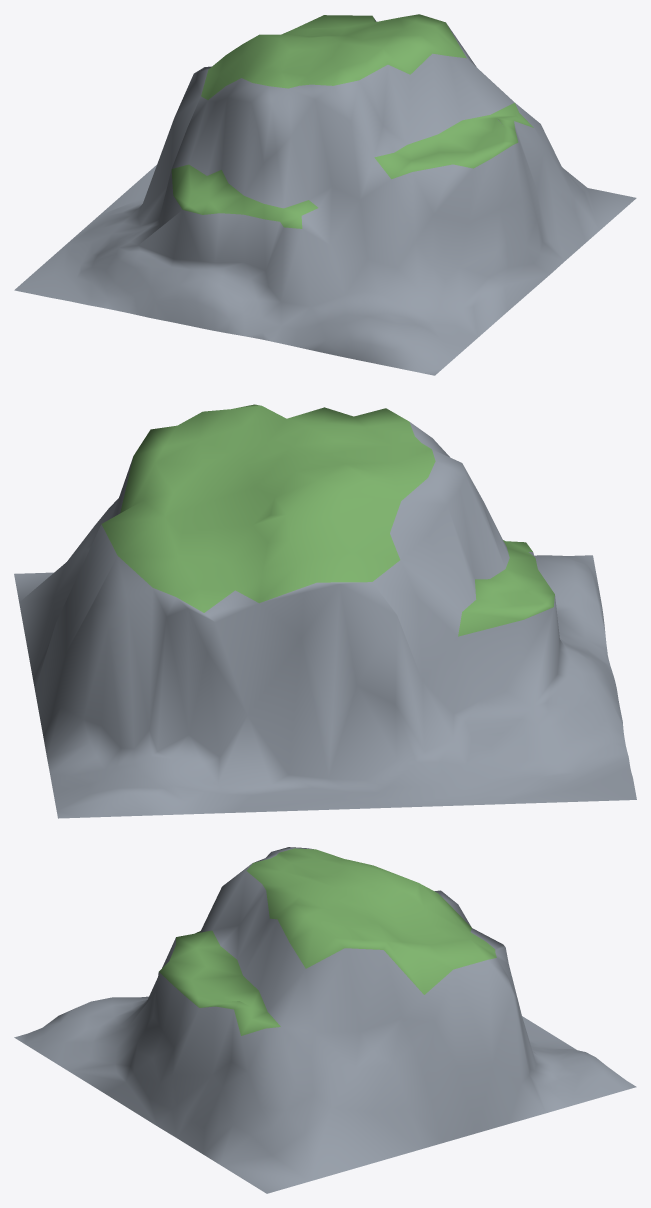
File: SM_Cliffs_15.obj
3 renders of one model, top to bottom at view 1: azimuth 30°, elevation 25°; view 2: azimuth 150°, elevation 25°; view 3: azimuth 270°, elevation 25°, orthographic. The views are drawn at different scales.
Parts seen in each view (by area): view 1: SM_Cliffs_15; view 2: SM_Cliffs_15; view 3: SM_Cliffs_15.
Part boxes in pixels (box(x1,y1,x2,y2)): SM_Cliffs_15: box(14, 14, 636, 375); SM_Cliffs_15: box(14, 404, 636, 818); SM_Cliffs_15: box(14, 847, 636, 1193).
Bounding box in the file's own units: 23.74 × 8.05 × 23.74.
1 material, 1 textured.
